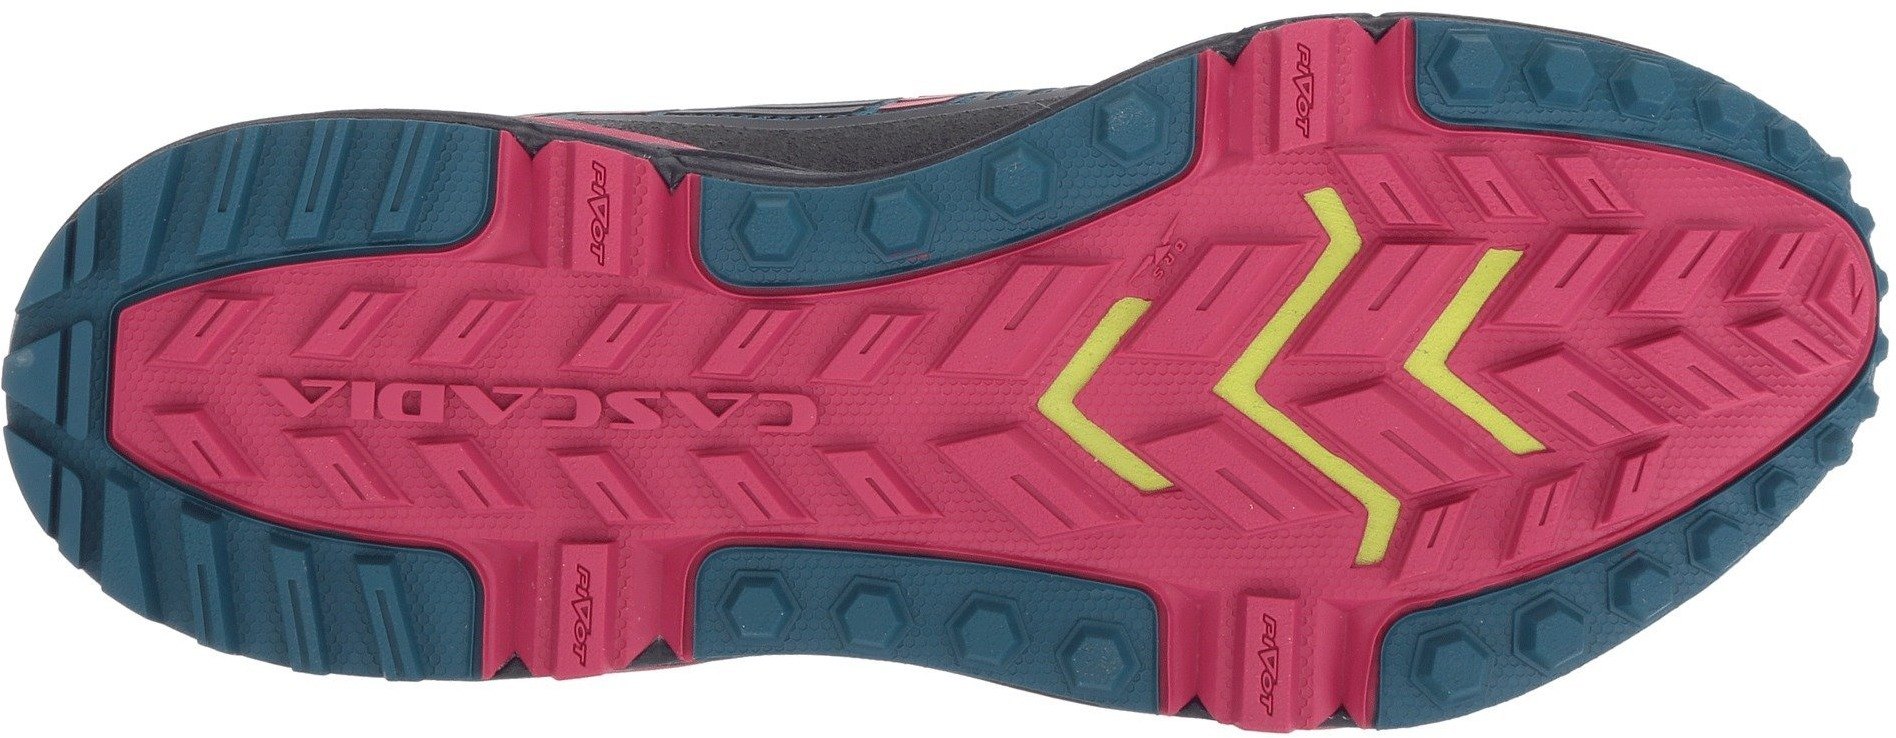chevron: (1268, 126, 1723, 581), (790, 217, 1200, 595), (1624, 219, 1842, 425)
line: (790, 217, 1200, 595), (164, 428, 417, 642), (214, 105, 463, 244), (122, 275, 273, 496)
polygon: (1393, 609, 1596, 716), (823, 567, 923, 661), (724, 188, 821, 275), (1056, 615, 1145, 704)
quad: (790, 217, 1200, 595), (164, 428, 417, 642), (187, 148, 434, 338), (214, 105, 463, 244), (122, 275, 273, 496), (1215, 589, 1307, 734), (554, 126, 632, 292), (1264, 16, 1348, 165), (542, 527, 622, 680)
text: (664, 344, 819, 480), (375, 338, 530, 473), (534, 354, 667, 469), (258, 334, 383, 450), (1215, 589, 1307, 734), (554, 126, 632, 292), (1264, 16, 1348, 165), (542, 527, 622, 680), (1114, 198, 1215, 278)
triangle: (664, 344, 819, 480), (375, 338, 530, 473), (258, 334, 383, 450), (1215, 589, 1307, 734), (554, 126, 632, 292), (1264, 16, 1348, 165), (542, 527, 622, 680), (1114, 198, 1215, 278)
